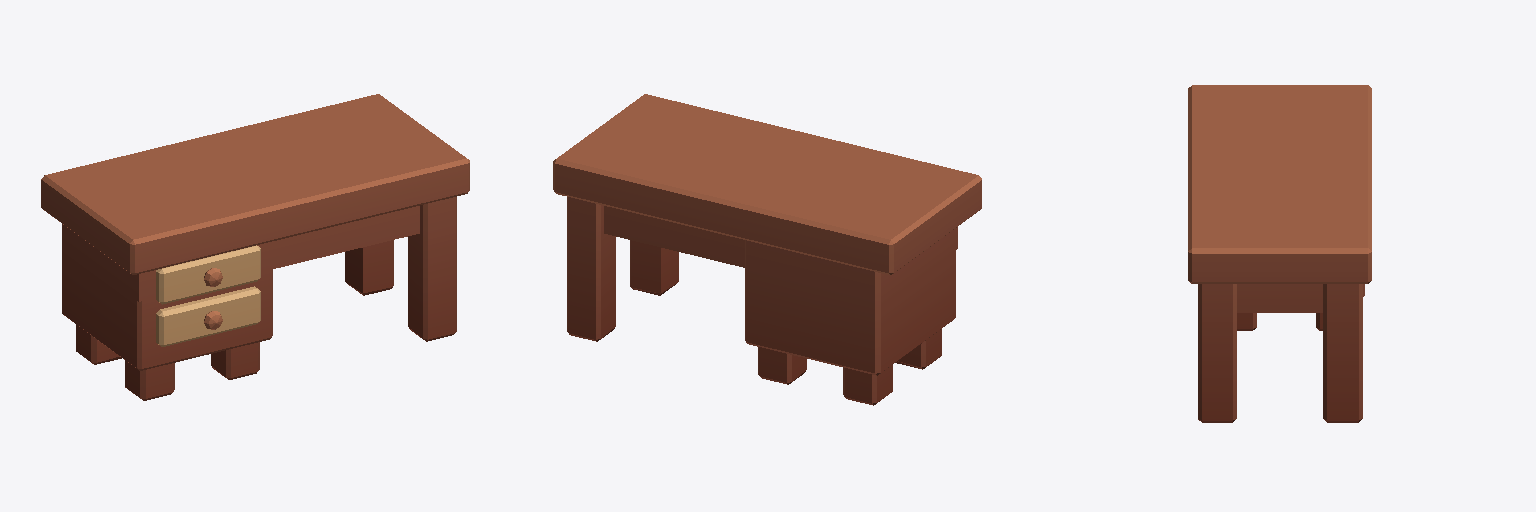
3 views of the same model, side by side, from view 1: azimuth 30°, elevation 25°; view 2: azimuth 150°, elevation 25°; view 3: azimuth 270°, elevation 25° (orthographic).
Parts seen in each view (by area): view 1: table_medium_Cube.003, cabinet_small_Cube.013; view 2: table_medium_Cube.003, cabinet_small_Cube.013; view 3: table_medium_Cube.003.
Part boxes in pixels (left/top/right/bottom): table_medium_Cube.003: left=41, top=94, right=469, bottom=341; cabinet_small_Cube.013: left=62, top=224, right=272, bottom=400; table_medium_Cube.003: left=553, top=94, right=981, bottom=341; cabinet_small_Cube.013: left=736, top=208, right=955, bottom=405; table_medium_Cube.003: left=1188, top=85, right=1371, bottom=422.
Size of the model in its own units: 2 by 1 by 0.9391.
1 materials, 1 textured.